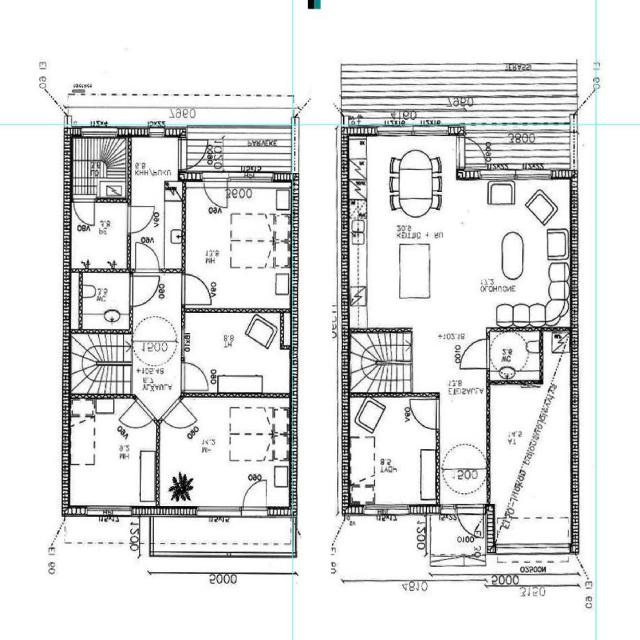door: (118, 398, 155, 440), (162, 398, 198, 439), (456, 136, 493, 167), (178, 140, 214, 169), (458, 504, 483, 544), (182, 274, 214, 304), (129, 276, 160, 306), (243, 479, 267, 517), (461, 339, 491, 369), (410, 400, 440, 430), (204, 171, 227, 208), (136, 241, 161, 272), (182, 363, 210, 390), (128, 206, 155, 233), (74, 198, 95, 227)
